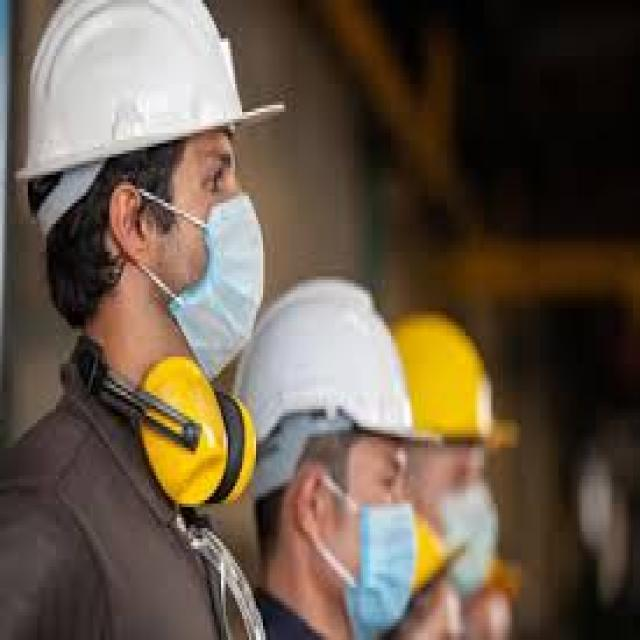Ear-Protection: (124, 343, 230, 507)
Helmet: (14, 0, 284, 189), (238, 262, 444, 451), (386, 300, 522, 448)
Mask: (190, 192, 260, 368), (358, 508, 414, 628), (442, 492, 495, 590)
